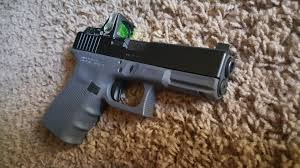gun: (44, 14, 240, 149)
